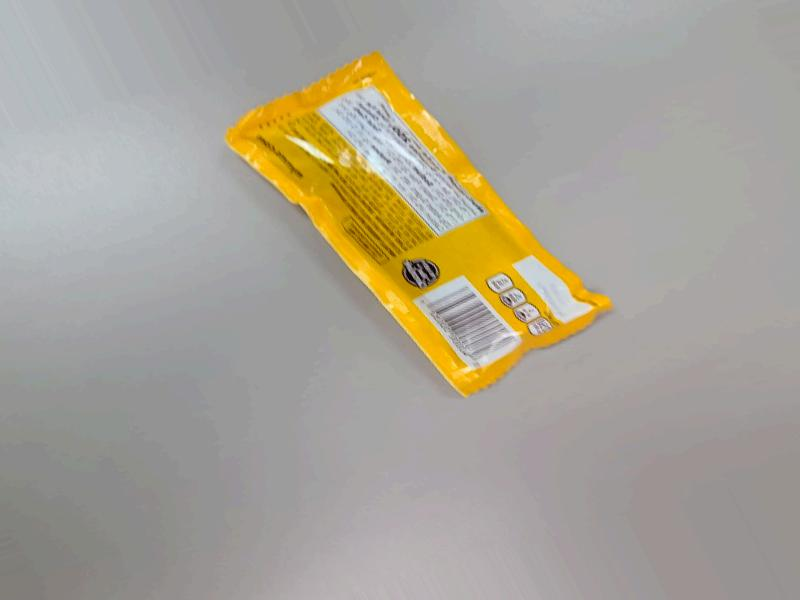m&m: (247, 37, 608, 397)
